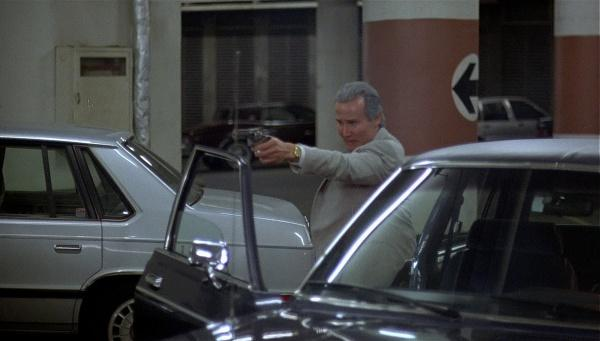Gun: (232, 126, 273, 145)
